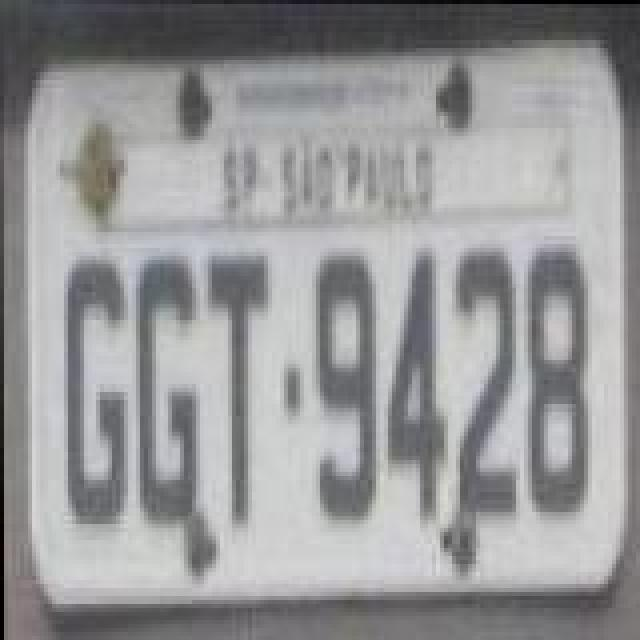2: (454, 248, 518, 524)
4: (386, 250, 450, 522)
8: (524, 242, 592, 518)
9: (314, 248, 378, 524)
G: (138, 254, 202, 530), (66, 256, 130, 528)
T: (206, 248, 270, 524)
